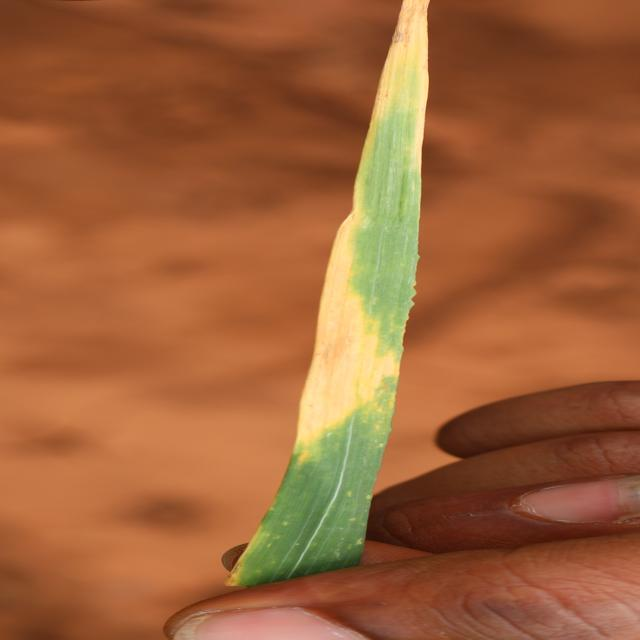Septoria: (296, 297, 386, 436), (372, 0, 453, 121)
